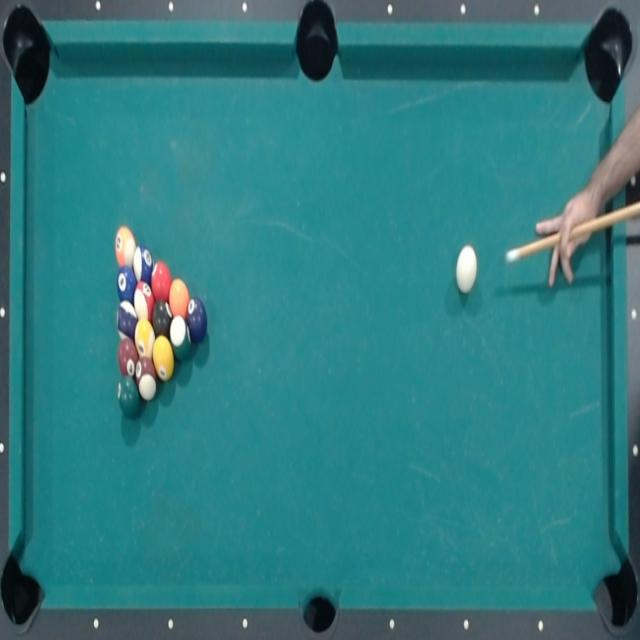black_8ball: (152, 300, 173, 336)
blue_solid: (116, 265, 138, 304)
blue_stripe: (132, 241, 154, 284)
cue_ball: (455, 244, 479, 296)
cue_body: (521, 196, 640, 262)
cue_tip: (505, 245, 520, 267)
green_solid: (116, 375, 140, 416)
green_stripe: (169, 316, 193, 360)
maroon_solid: (118, 338, 138, 377)
maroon_stripe: (135, 356, 159, 400)
orange_solid: (168, 278, 189, 319)
orange_stripe: (115, 225, 137, 269)
player_hand: (534, 184, 598, 288)
purple_solid: (188, 296, 208, 342)
purple_stripe: (116, 300, 137, 340)
red_solid: (151, 258, 171, 301)
red_stripe: (133, 281, 154, 320)
yellow_solid: (152, 335, 175, 383)
yellow_stripe: (134, 318, 154, 359)
